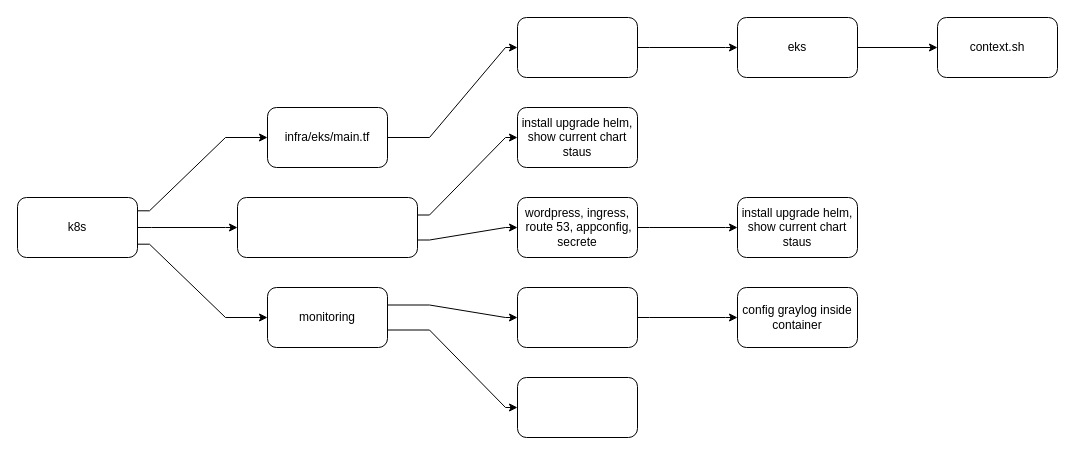
Image size: 1075x455. Some labels were removed from this diagram. Each missing label, with the box of its shape:
graylog: (516, 286, 638, 348)
helm/aws/dev_ms_value.yaml, helm/aws/prod_ms_value.yaml helm/desktop: (236, 196, 418, 258)
s3 backend: (516, 16, 638, 78)
see trello something like Lens .etc: (516, 376, 638, 438)
